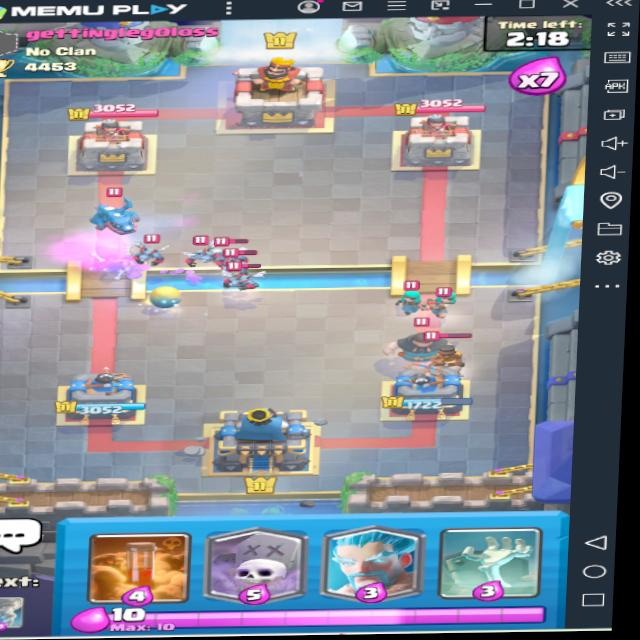electro-dragon: (81, 189, 150, 239)
minion: (215, 233, 250, 263), (221, 247, 256, 275), (138, 235, 169, 263), (229, 267, 261, 294), (186, 243, 221, 265)
ram-rider: (424, 332, 473, 378)
rascal-boy: (385, 322, 454, 362)
rascal-girl: (389, 280, 434, 312), (424, 282, 464, 315)
